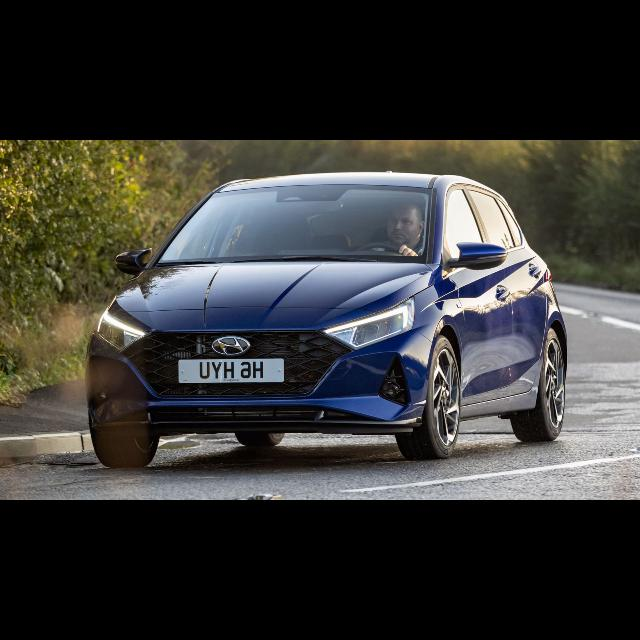number-plate: (180, 358, 284, 382)
vehicles: (83, 166, 559, 473)
